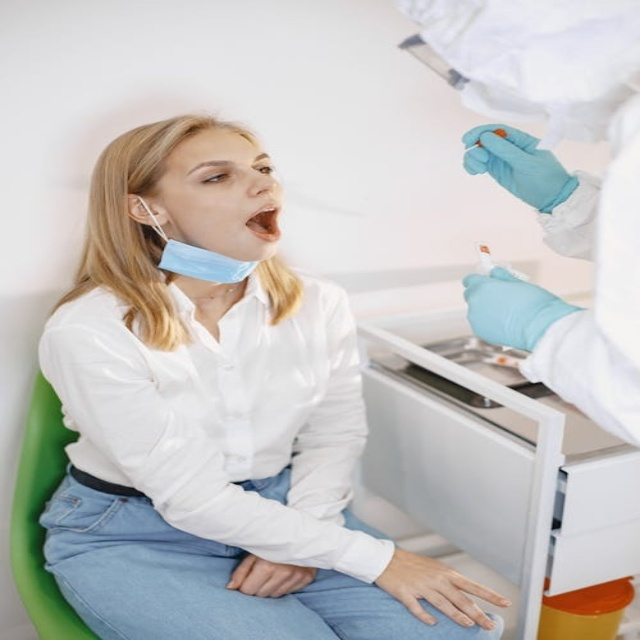Gafas: (388, 23, 512, 90)
Guantes: (461, 265, 583, 354), (460, 124, 577, 214)
Mascara: (451, 68, 573, 127)
Sin_gafas: (179, 153, 279, 183)
Sin_guantes: (375, 549, 515, 629), (225, 549, 318, 599)
Sin_mascara: (214, 199, 284, 241)
